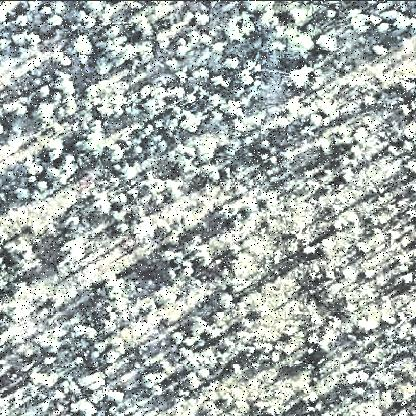tree-top: (30, 326, 61, 356), (223, 247, 253, 275), (62, 236, 88, 265), (69, 34, 95, 62), (98, 271, 124, 299), (285, 63, 311, 89), (87, 192, 113, 218), (93, 100, 121, 124), (77, 131, 105, 155), (82, 369, 109, 393), (214, 202, 240, 226), (40, 138, 65, 162), (99, 347, 123, 371), (52, 75, 80, 95), (393, 12, 416, 36), (105, 387, 129, 410), (315, 32, 339, 54), (33, 97, 55, 121), (133, 216, 155, 239), (70, 322, 94, 343), (192, 313, 214, 335), (180, 370, 201, 393), (165, 326, 187, 347), (370, 41, 390, 64), (106, 143, 126, 165), (159, 246, 180, 266), (256, 188, 277, 208), (10, 100, 29, 122), (216, 290, 236, 310), (195, 251, 215, 271), (283, 98, 303, 118), (313, 335, 331, 357), (209, 74, 233, 90), (155, 34, 174, 54), (360, 316, 377, 337), (72, 402, 97, 416), (225, 54, 244, 72), (316, 237, 334, 256), (15, 184, 34, 202), (164, 53, 180, 71), (35, 176, 53, 190)
